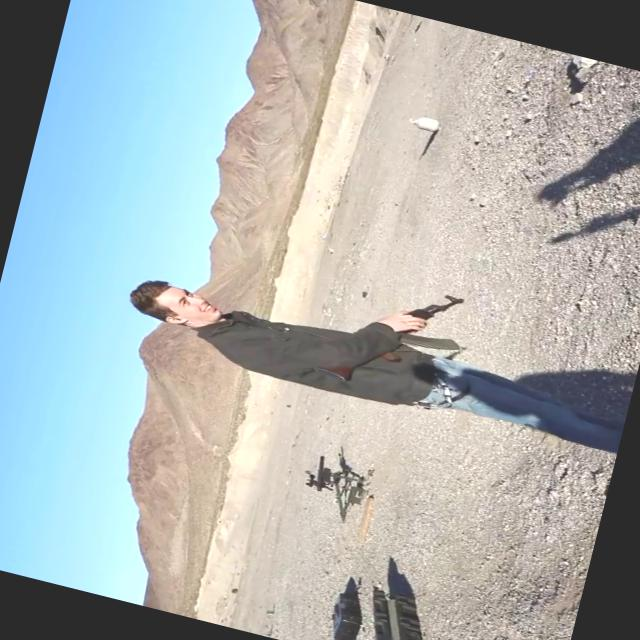long weapon: (307, 250, 477, 408), (266, 428, 370, 508)
